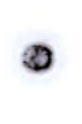cancer: (11, 29, 71, 91)
